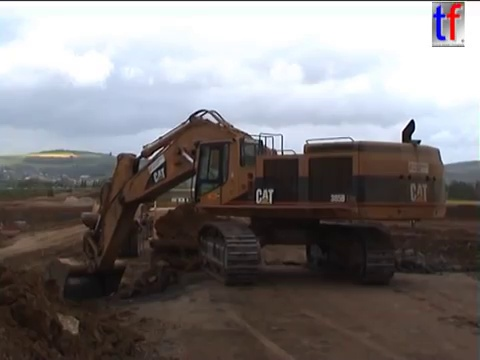excavator: (40, 105, 449, 304)
truck: (140, 197, 287, 275), (80, 188, 149, 248), (45, 187, 56, 198), (65, 186, 73, 194)
worker: (405, 205, 420, 231)
